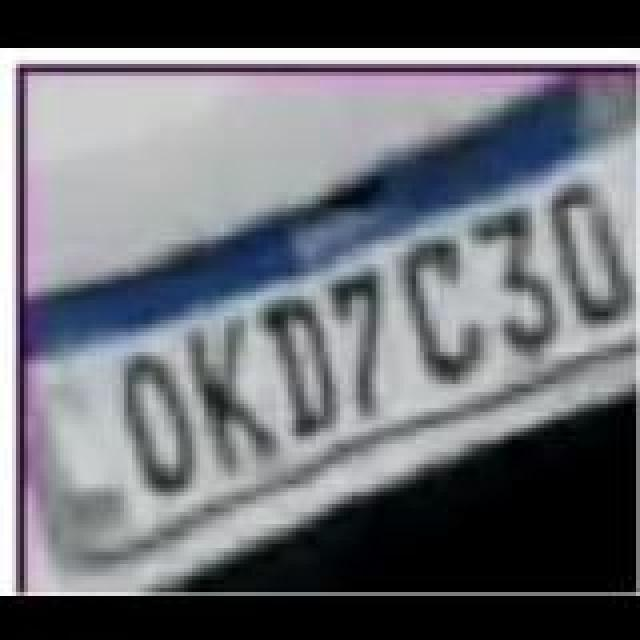3: (476, 204, 564, 356)
7: (330, 266, 398, 414)
C: (402, 234, 486, 382)
D: (554, 170, 638, 318), (260, 294, 340, 434)
K: (190, 314, 282, 470)
O: (122, 350, 198, 498)
